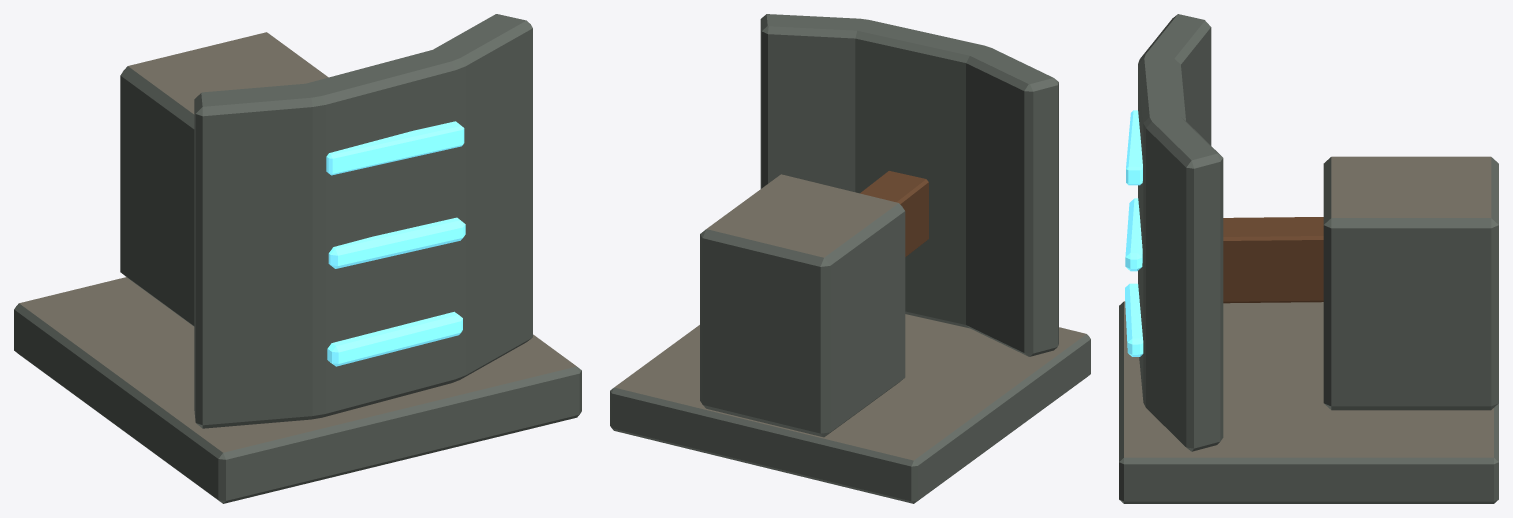
The model's file is R4X_DirectionalShield_LOD1.fbx.
3 views of the same model, side by side, from view 1: azimuth 30°, elevation 25°; view 2: azimuth 150°, elevation 25°; view 3: azimuth 270°, elevation 25° (orthographic). The views are drawn at different scales.
Visible parts, largest first — view 1: R4X_DirectionalShield_LOD1; view 2: R4X_DirectionalShield_LOD1; view 3: R4X_DirectionalShield_LOD1.
Boxes of the visible parts, <box> form: R4X_DirectionalShield_LOD1: <box>14,14,581,503</box>; R4X_DirectionalShield_LOD1: <box>610,14,1090,503</box>; R4X_DirectionalShield_LOD1: <box>1119,14,1498,503</box>.
Size of the model in its own units: 0.52 by 0.51 by 0.52.
